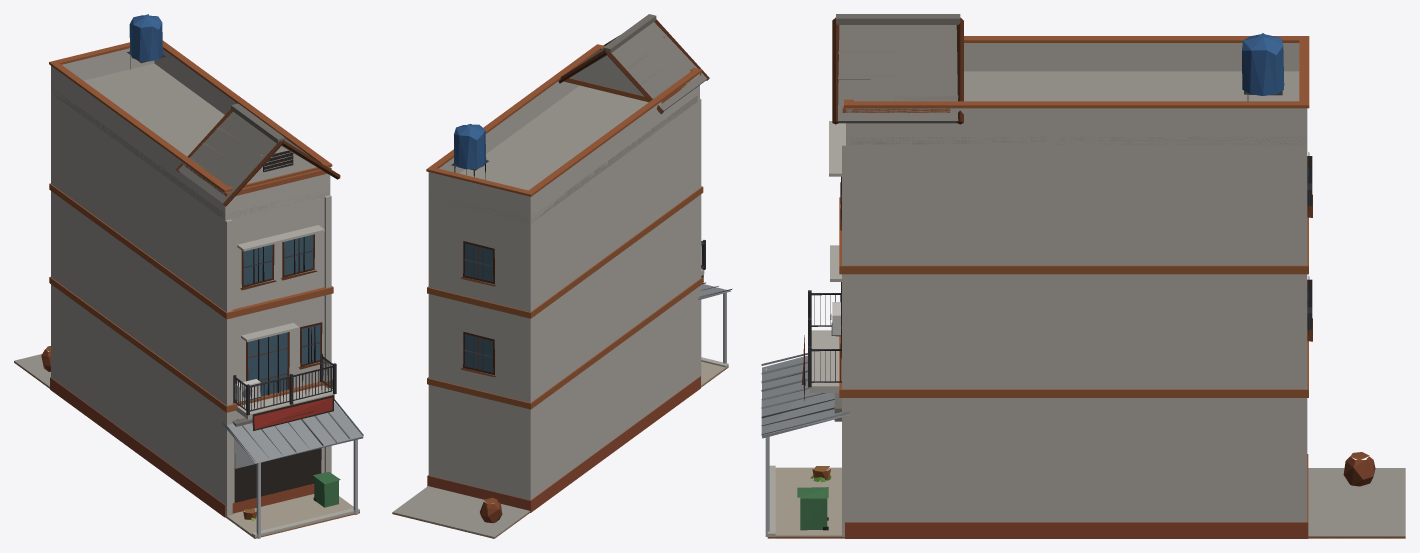
Rendered from bay2_mid.glb.
The picture shows the model from 3 angles, left to right: view 1: azimuth 30°, elevation 25°; view 2: azimuth 150°, elevation 25°; view 3: azimuth 270°, elevation 25°; orthographic projection. The views are drawn at different scales.
Visible parts, largest first — view 1: body, windows; view 2: body, windows; view 3: body.
Part boxes in pixels (x1,y1,x2,y2): body: [14, 14, 363, 538]; windows: [234, 150, 321, 502]; body: [392, 14, 732, 538]; windows: [464, 243, 493, 372]; body: [761, 14, 1405, 538].
Bounding box in the file's own units: 4.47 × 13.72 × 16.06.
